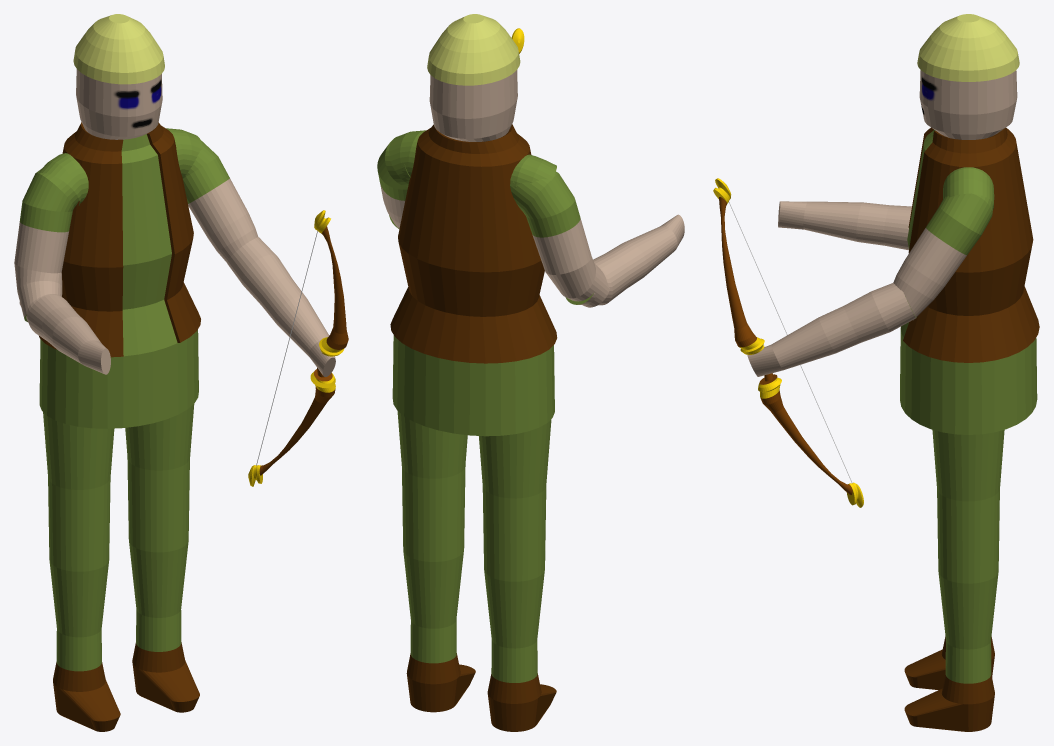
The model's file is Лучник1.fbx.
3 renders of one model, left to right at view 1: azimuth 30°, elevation 25°; view 2: azimuth 150°, elevation 25°; view 3: azimuth 270°, elevation 25°, orthographic.
Parts seen in each view (by area): view 1: Цилиндр.146, Цилиндр.136, Цилиндр.140, Цилиндр.141, Цилиндр.138, Цилиндр.139, Цилиндр.144, Цилиндр.143, Цилиндр.137, Цилиндр.142, Цилиндр.145, Цилиндр.048 (+2 smaller); view 2: Цилиндр.136, Цилиндр.146, Цилиндр.140, Цилиндр.139, Цилиндр.141, Цилиндр.138, Цилиндр.144, Цилиндр.137, Цилиндр.145, Цилиндр.142, Цилиндр.148, Цилиндр.147; view 3: Цилиндр.136, Цилиндр.146, Цилиндр.139, Цилиндр.138, Цилиндр.143, Цилиндр.142, Цилиндр.137, Цилиндр.145, Цилиндр.048, Цилиндр.141, Цилиндр.148.
Part boxes in pixels (<box>): Цилиндр.146: <box>39,69,198,428</box>; Цилиндр.136: <box>39,122,200,357</box>; Цилиндр.140: <box>43,412,114,571</box>; Цилиндр.141: <box>49,560,120,731</box>; Цилиндр.138: <box>129,541,199,712</box>; Цилиндр.139: <box>125,404,194,552</box>; Цилиндр.144: <box>14,168,79,321</box>; Цилиндр.143: <box>227,237,335,376</box>; Цилиндр.137: <box>73,14,164,84</box>; Цилиндр.142: <box>183,140,258,262</box>; Цилиндр.145: <box>19,294,110,374</box>; Цилиндр.048: <box>248,210,348,486</box>; Цилиндр.136: <box>390,124,557,363</box>; Цилиндр.146: <box>392,70,554,436</box>; Цилиндр.140: <box>479,419,551,581</box>; Цилиндр.139: <box>397,411,467,561</box>; Цилиндр.141: <box>484,570,556,731</box>; Цилиндр.138: <box>403,551,475,712</box>; Цилиндр.144: <box>510,171,609,307</box>; Цилиндр.137: <box>427,14,520,85</box>; Цилиндр.145: <box>565,214,684,305</box>; Цилиндр.142: <box>377,139,410,228</box>; Цилиндр.148: <box>389,130,425,183</box>; Цилиндр.147: <box>510,154,556,187</box>; Цилиндр.136: <box>903,127,1039,362</box>; Цилиндр.146: <box>900,70,1037,434</box>; Цилиндр.139: <box>932,429,1004,583</box>; Цилиндр.138: <box>904,572,998,731</box>; Цилиндр.143: <box>747,283,916,376</box>; Цилиндр.142: <box>893,192,994,320</box>; Цилиндр.137: <box>917,14,1019,81</box>; Цилиндр.145: <box>778,201,911,250</box>; Цилиндр.048: <box>713,178,863,507</box>; Цилиндр.141: <box>904,636,994,689</box>; Цилиндр.148: <box>943,167,993,209</box>.
Size of the model in its own units: 41.96 by 114 by 49.17.
